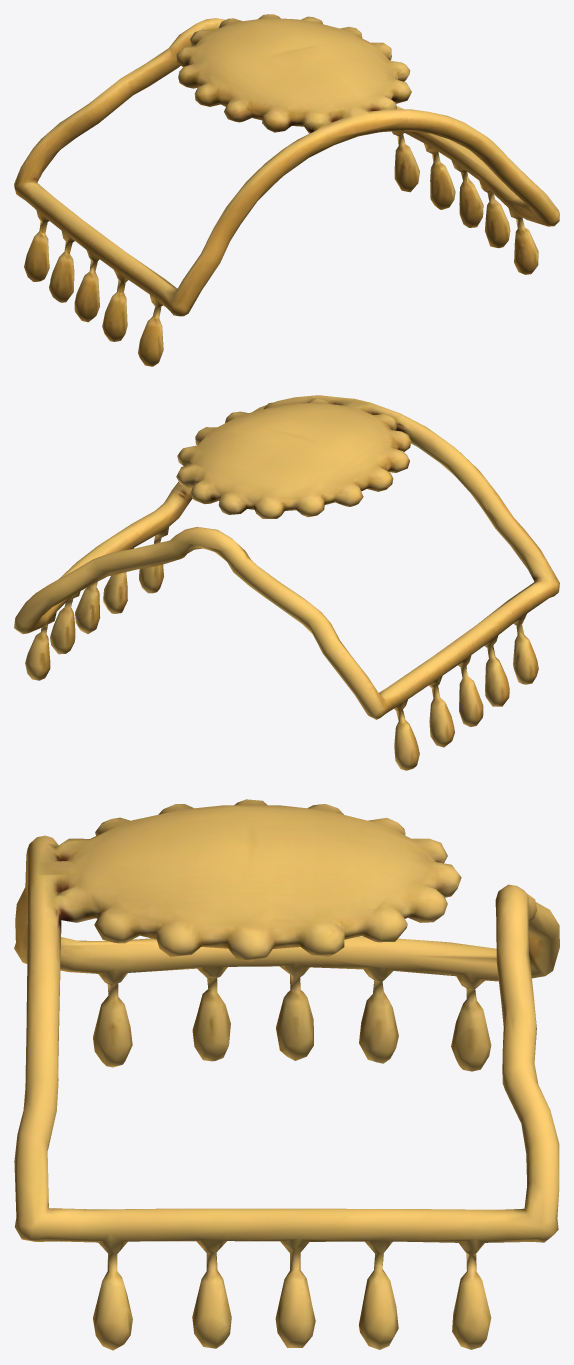
The model's file is trau_saddle.glb.
3 renders of one model, top to bottom at view 1: azimuth 30°, elevation 25°; view 2: azimuth 150°, elevation 25°; view 3: azimuth 270°, elevation 25°, orthographic. The views are drawn at different scales.
Parts seen in each view (by area): view 1: trau_saddle; view 2: trau_saddle; view 3: trau_saddle.
Boxes of the visible parts, left/top/right/bottom form: trau_saddle: left=14, top=14, right=559, bottom=366; trau_saddle: left=14, top=395, right=559, bottom=770; trau_saddle: left=14, top=799, right=559, bottom=1350.
Size of the model in its own units: 0.9572 by 0.5388 by 0.7259.
Materials: 1 (1 with a texture image).
